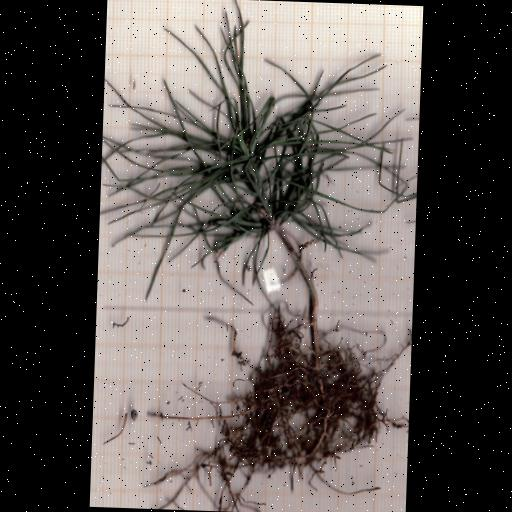flowerCedr: (102, 0, 392, 297)
rootCedr: (152, 303, 410, 512)
stemCedr: (274, 227, 318, 330)
